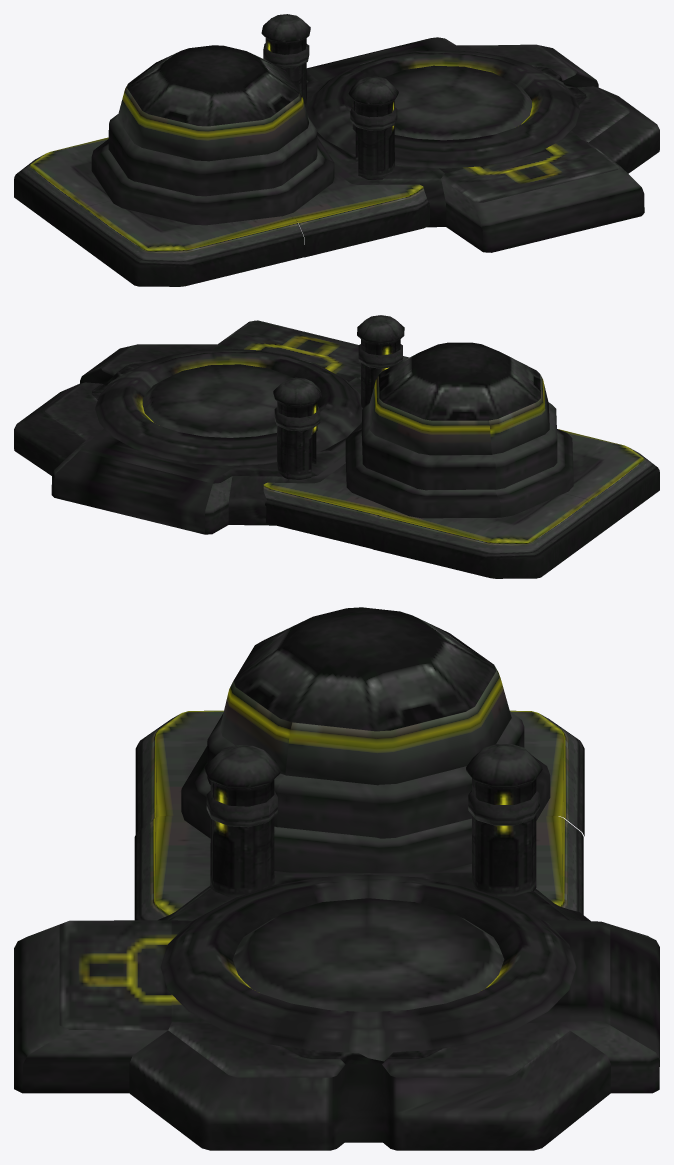
Rendered from Viper_WarFactory1.glb.
The picture shows the model from 3 angles, top to bottom: view 1: azimuth 30°, elevation 25°; view 2: azimuth 150°, elevation 25°; view 3: azimuth 270°, elevation 25°; orthographic projection. The views are drawn at different scales.
Visible parts, largest first — view 1: Bldg_Terran_Factory_Main.001, Bldg_Terran_Factory_Main; view 2: Bldg_Terran_Factory_Main.001, Bldg_Terran_Factory_Main; view 3: Bldg_Terran_Factory_Main.001, Bldg_Terran_Factory_Main.
Part boxes in pixels (left/top/right/bottom): Bldg_Terran_Factory_Main.001: left=14, top=14, right=659, bottom=286; Bldg_Terran_Factory_Main: left=307, top=50, right=580, bottom=168; Bldg_Terran_Factory_Main.001: left=14, top=315, right=659, bottom=578; Bldg_Terran_Factory_Main: left=95, top=348, right=362, bottom=465; Bldg_Terran_Factory_Main.001: left=14, top=607, right=659, bottom=1150; Bldg_Terran_Factory_Main: left=160, top=874, right=576, bottom=1061.
Size of the model in its own units: 5.41 by 1.66 by 3.7.
Materials: 2 (2 with a texture image).
